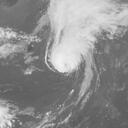cyclone: (44, 32, 94, 75)
